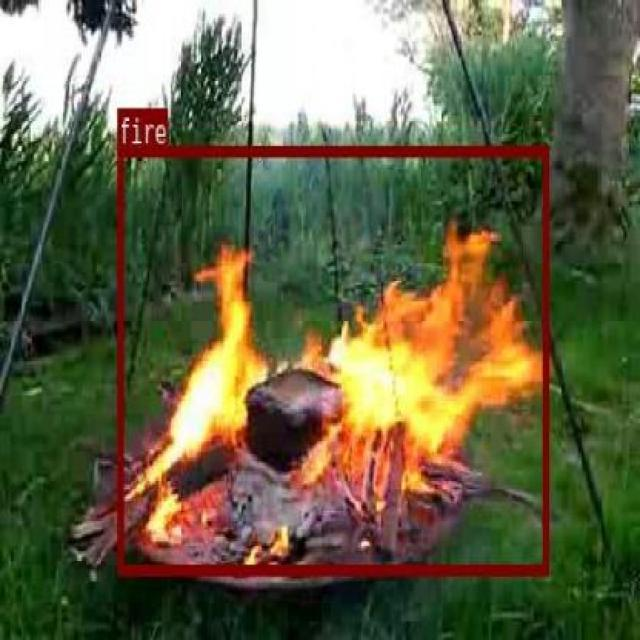Fire: (116, 144, 549, 573)
